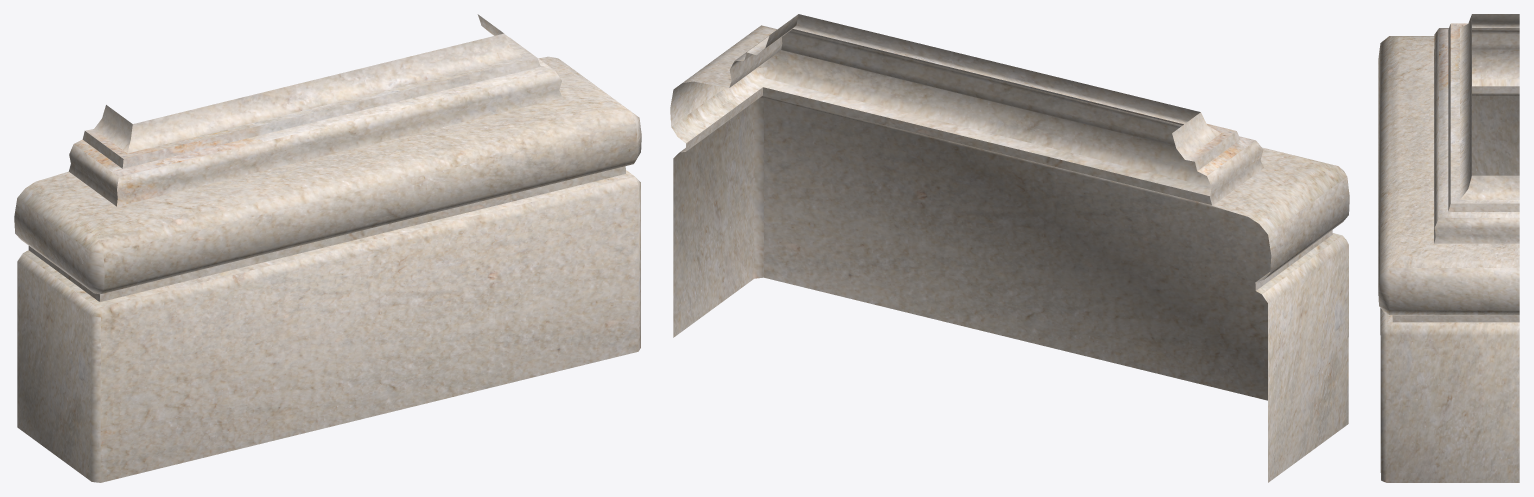
Rendered from BaseColonnaTerrazzo.fbx.
3 renders of one model, left to right at view 1: azimuth 30°, elevation 25°; view 2: azimuth 150°, elevation 25°; view 3: azimuth 270°, elevation 25°, orthographic. The views are drawn at different scales.
Parts seen in each view (by area): view 1: BaseColonnaTerrazzo; view 2: BaseColonnaTerrazzo; view 3: BaseColonnaTerrazzo.
Boxes of the visible parts, bbox=[...] form: BaseColonnaTerrazzo: bbox=[14, 14, 641, 482]; BaseColonnaTerrazzo: bbox=[670, 14, 1349, 482]; BaseColonnaTerrazzo: bbox=[1378, 14, 1519, 482].
Bounding box in the file's own units: 53.49 × 27.73 × 13.23.
